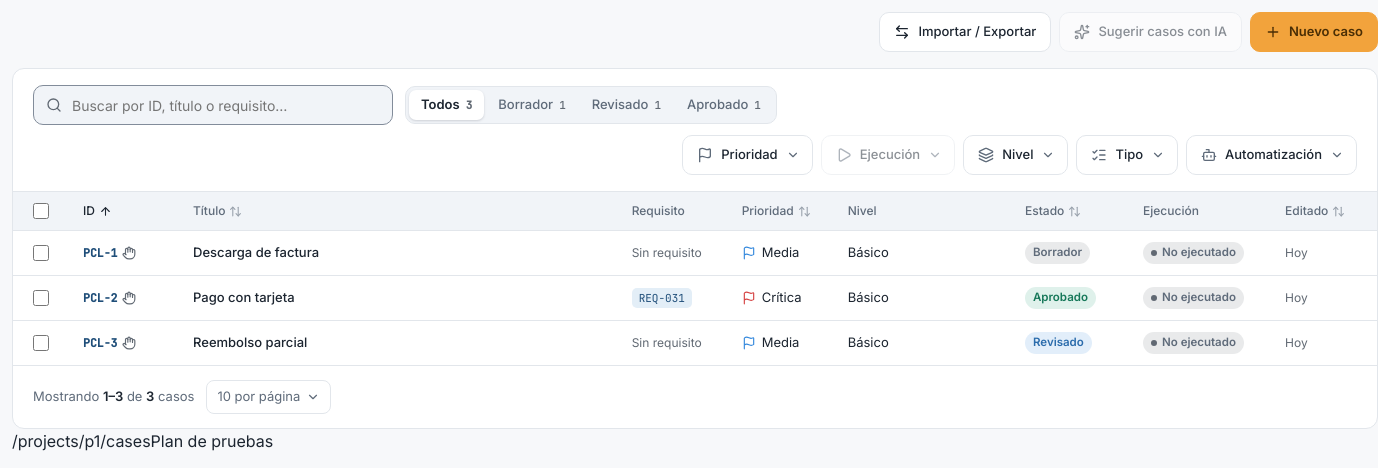
Scenario: Casos · lista (RED-V3) › filters by state chip and finds a case by its requirement
Expected: the table is shown, [13,191,1377,366]
Click the button "Borrador 1": (532,105) [486,90,578,120]
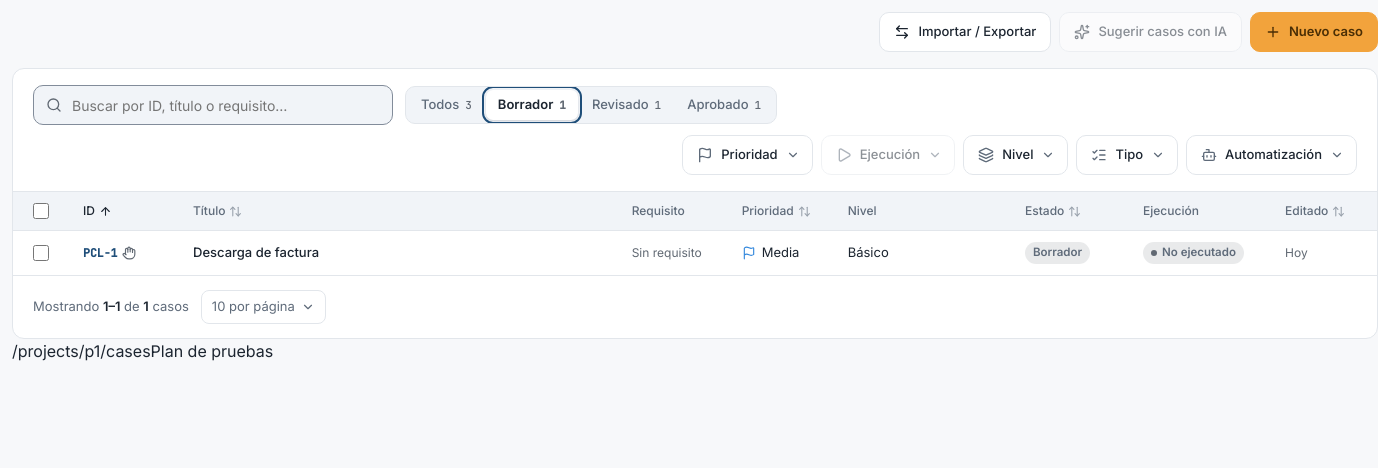
Now the number of rows is 2, box [13,191,1377,231]; [13,231,1377,276]
Click the button "Todos 3": (446,105) [409,90,484,120]
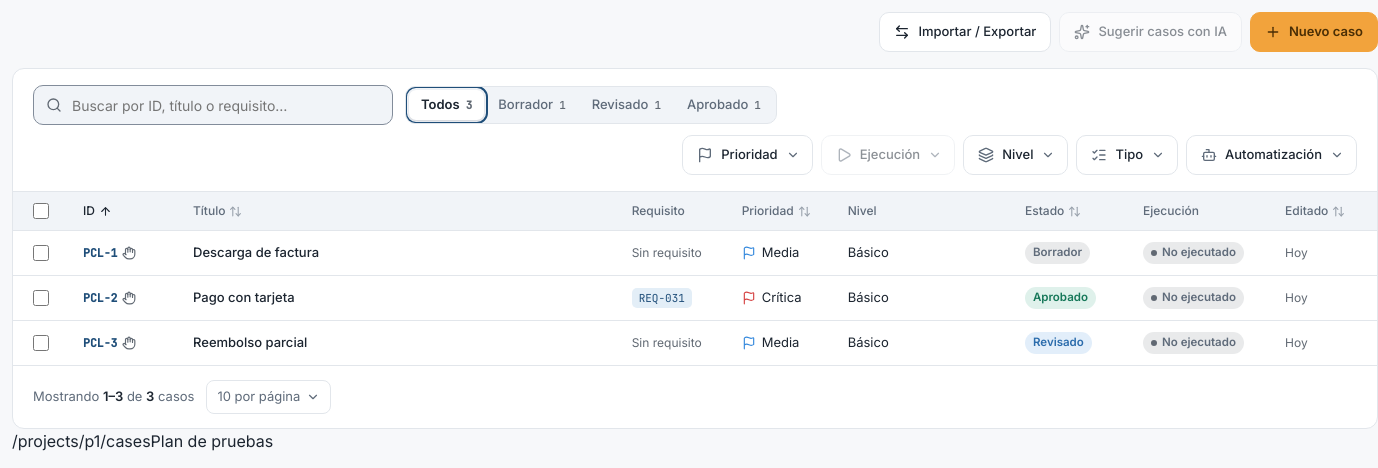
Now the text "REQ-031" is shown, box [632,288,692,308]
In the search field with placeholder "Buscar por ID, título o requisito…": (225,105) [70,86,380,124], type "req-031"
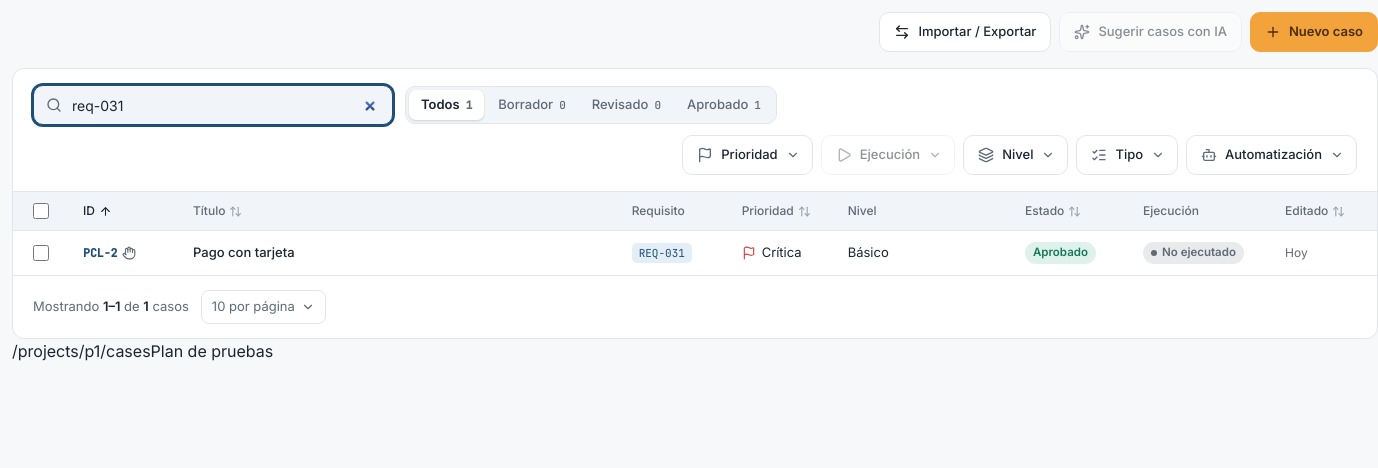
Now the number of rows is 2, box [13,191,1377,231]; [13,231,1377,276]
